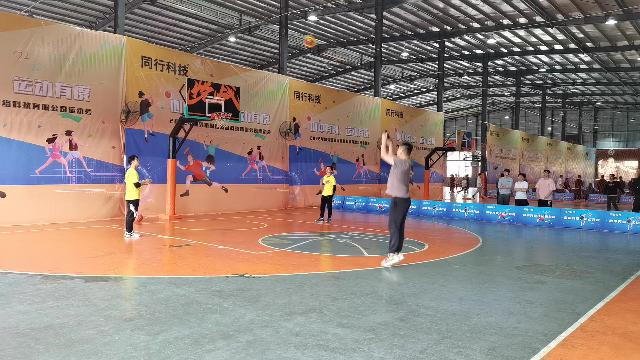ball: (304, 34, 316, 48)
basket: (213, 111, 231, 127)
